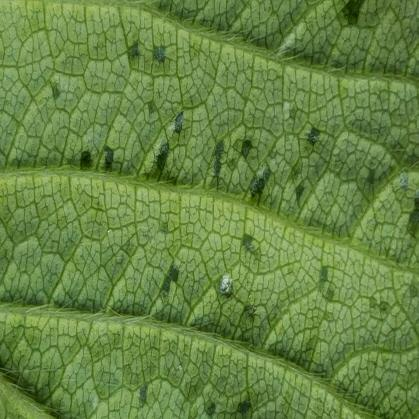Angular Leafspot: (48, 0, 418, 417)
